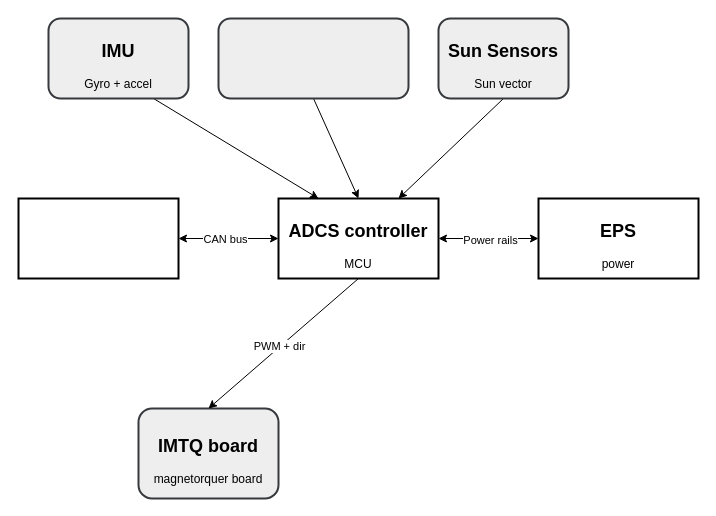
Some shapes in this 716 by 516 pixel diagram are drawn without their labels. Each missing label, with the centre of its shape:
"Magnetometer B-field vector" belongs at pixel 313 58.
"OBS Commands + telemetry" belongs at pixel 98 238.
